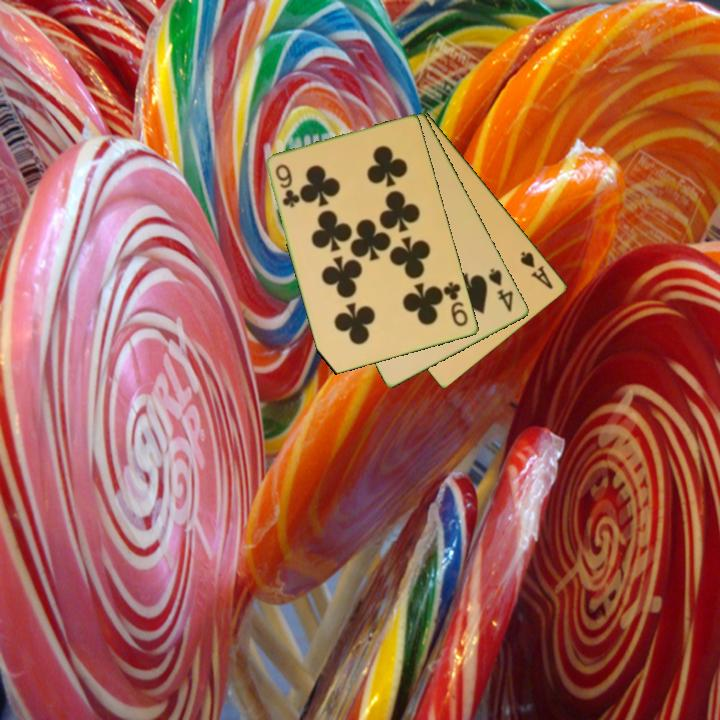4s: (485, 265, 516, 315)
9c: (440, 278, 471, 330), (272, 161, 302, 211)
As: (517, 248, 556, 292)
